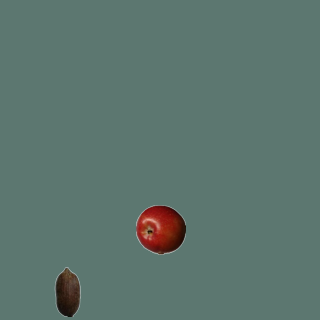Apple Braeburn: (135, 204, 185, 254)
Nut Pecan: (42, 266, 92, 316)
